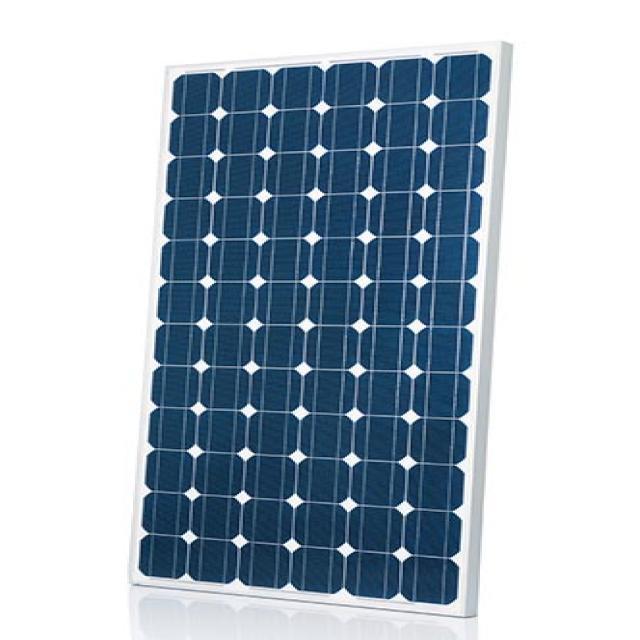clean-solar-panel: (262, 104, 279, 118)
